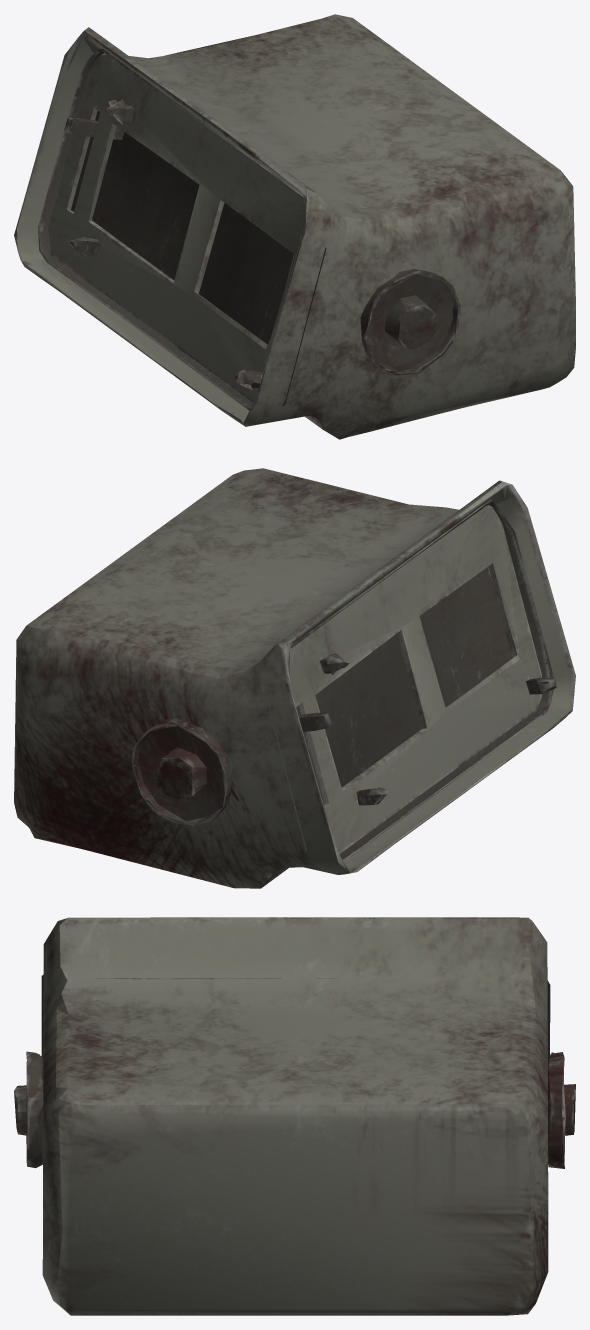
Rendered from oldclock_reference.fbx.
3 renders of one model, top to bottom at view 1: azimuth 30°, elevation 25°; view 2: azimuth 150°, elevation 25°; view 3: azimuth 270°, elevation 25°, orthographic. The views are drawn at different scales.
Parts seen in each view (by area): view 1: oldclock_reference; view 2: oldclock_reference; view 3: oldclock_reference.
Boxes of the visible parts, x1=… form: oldclock_reference: x1=14, y1=14, x2=575, y2=439; oldclock_reference: x1=14, y1=468, x2=575, y2=888; oldclock_reference: x1=14, y1=917, x2=575, y2=1315.
Size of the model in its own units: 14.77 by 10.81 by 20.41.
